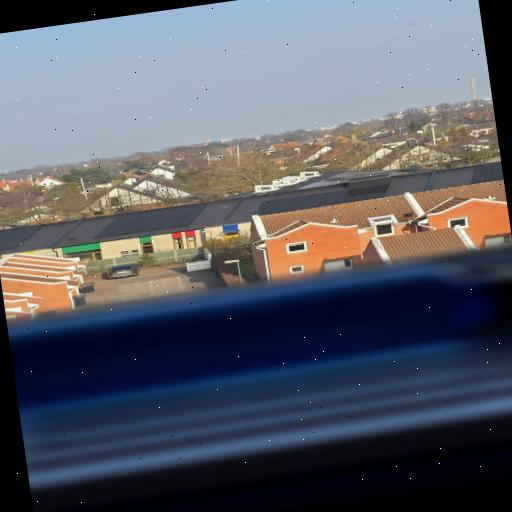bottle: (5, 244, 512, 433)
